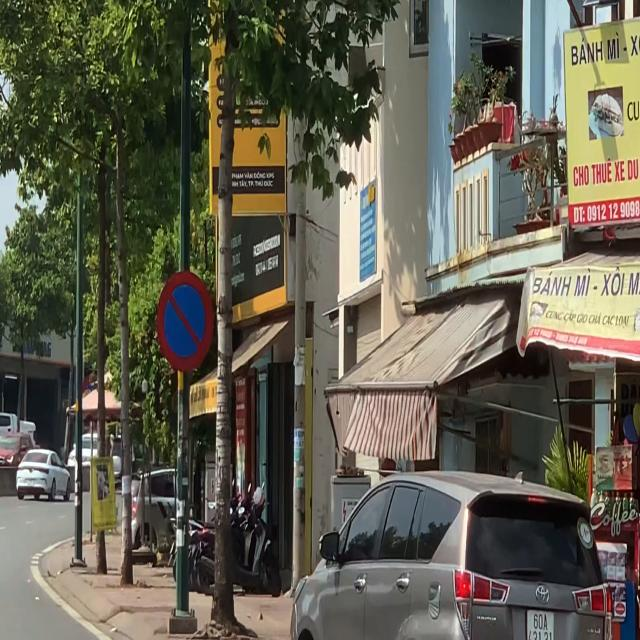Cam do: (157, 270, 214, 372)
